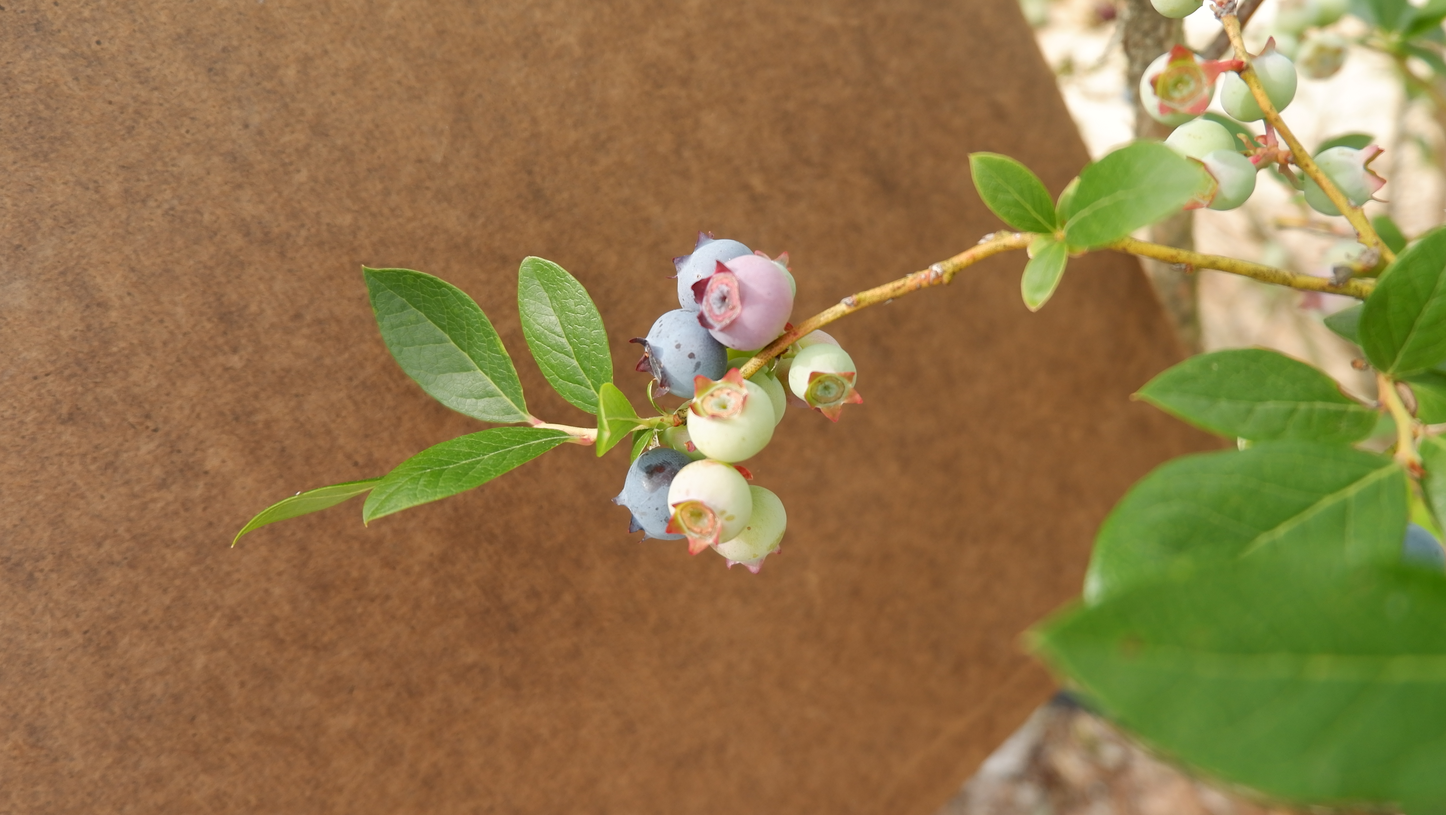Immature: (689, 255, 794, 351), (687, 367, 776, 463), (664, 458, 753, 554), (712, 485, 787, 574), (788, 345, 862, 423), (776, 330, 845, 408), (727, 356, 785, 425), (659, 397, 707, 460), (755, 249, 797, 296), (726, 348, 764, 366)
Mature: (628, 310, 728, 400), (611, 448, 695, 544), (665, 231, 755, 311)
